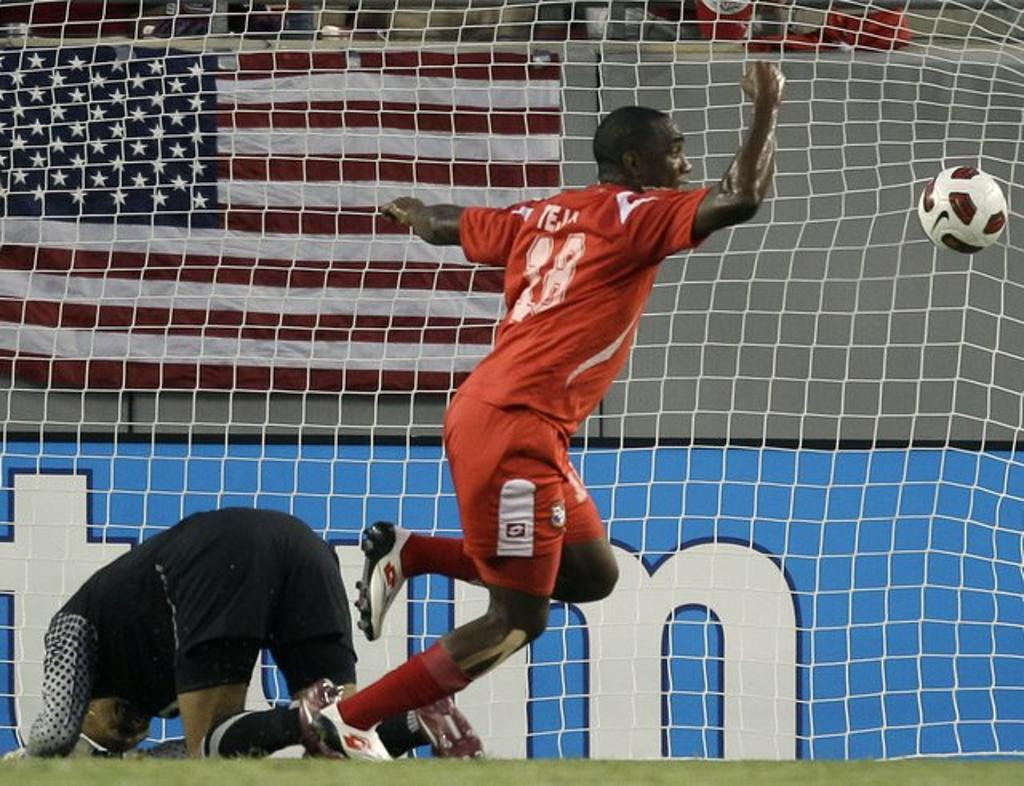face: (641, 117, 695, 201)
